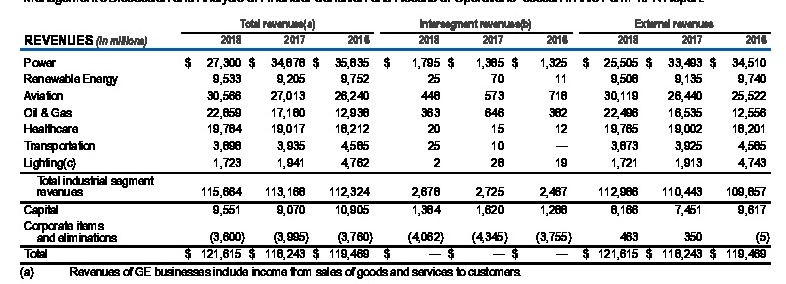table: (0, 0, 786, 284)
